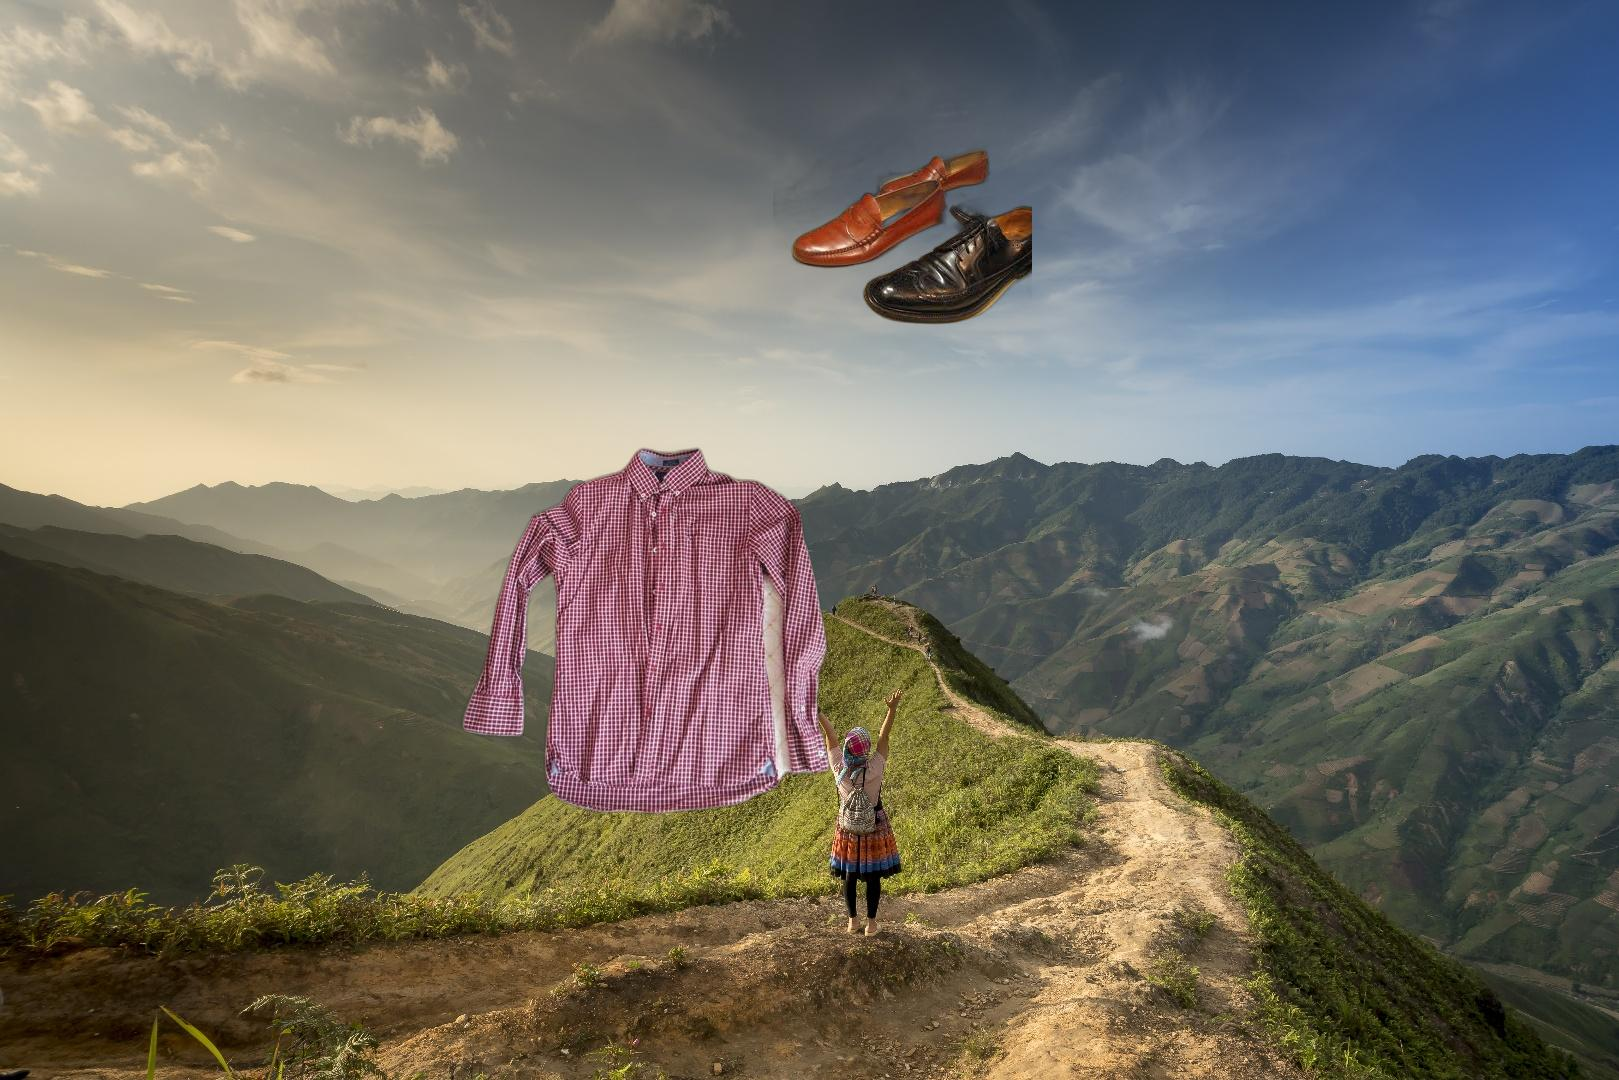clothes: (457, 444, 834, 818)
shoes: (773, 136, 1032, 330)
